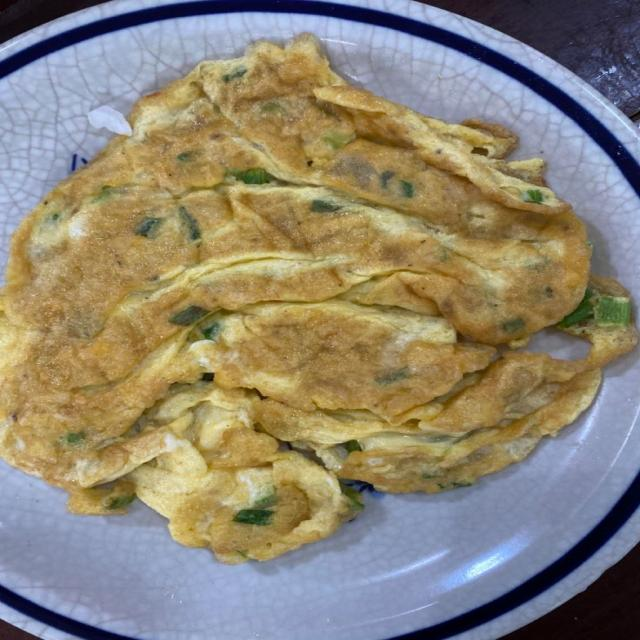omelette: (0, 36, 636, 563)
